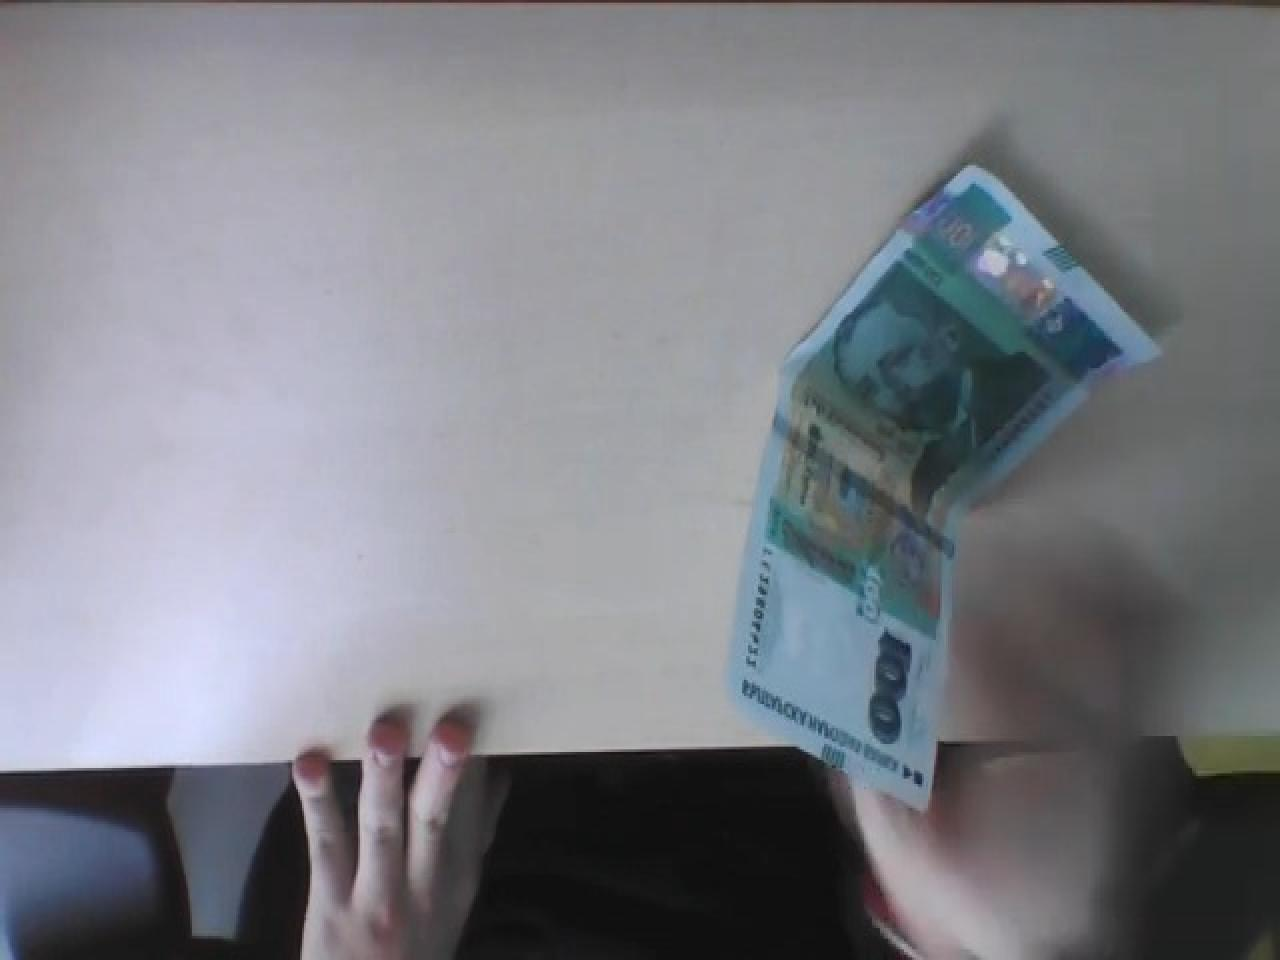100leva: (726, 162, 1160, 813)
